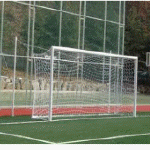goals: (28, 45, 143, 125)
